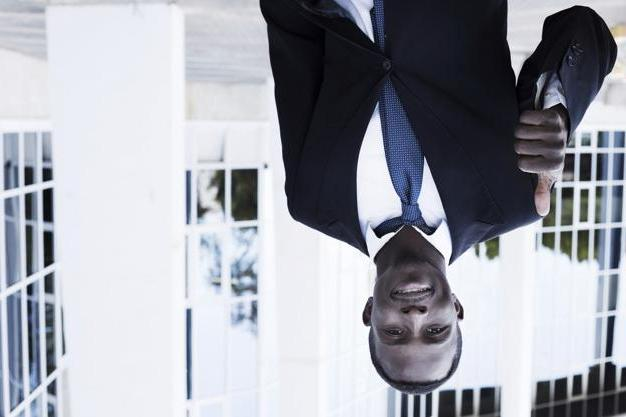thumbsdown: (514, 110, 566, 216)
